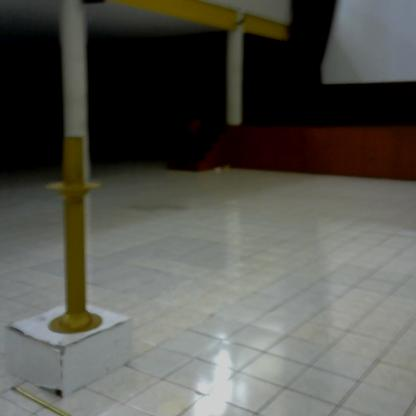pole: (40, 130, 108, 346)
